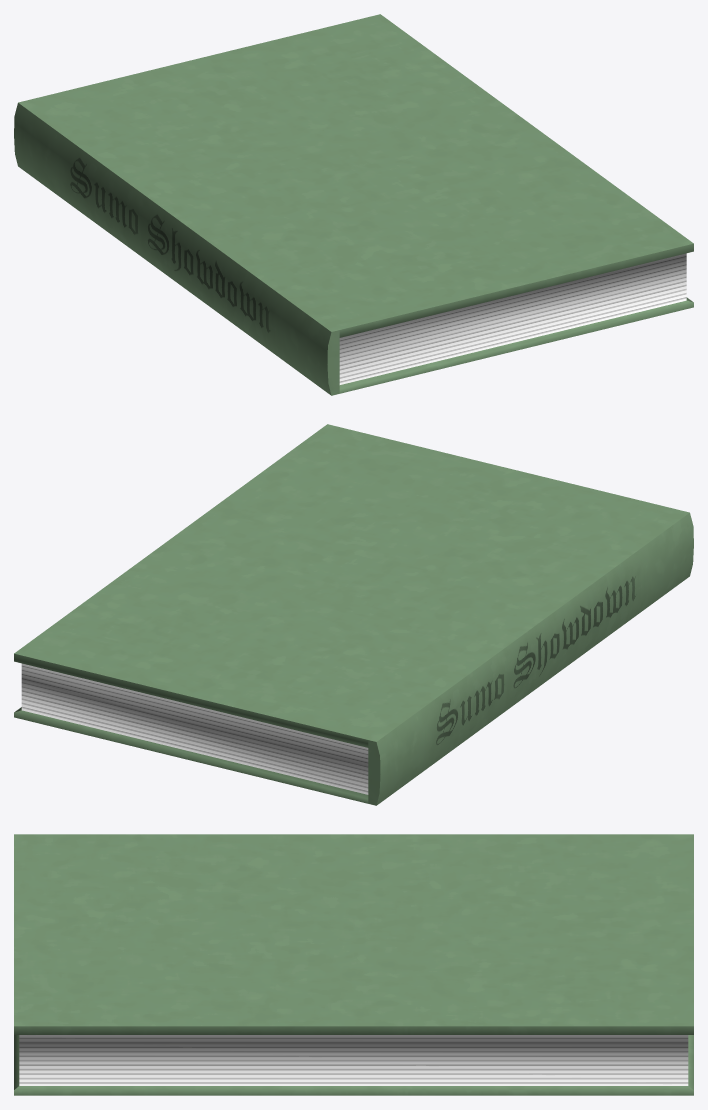
Rendered from GreenBook.FBX.
3 views of the same model, one above another, from view 1: azimuth 30°, elevation 25°; view 2: azimuth 150°, elevation 25°; view 3: azimuth 270°, elevation 25° (orthographic). The views are drawn at different scales.
Parts seen in each view (by area): view 1: Box001; view 2: Box001; view 3: Box001.
Boxes of the visible parts, bbox=[...] form: Box001: bbox=[14, 14, 693, 395]; Box001: bbox=[14, 424, 693, 805]; Box001: bbox=[14, 834, 693, 1095].
Bounding box in the file's own units: 20.17 × 3.36 × 29.89.
